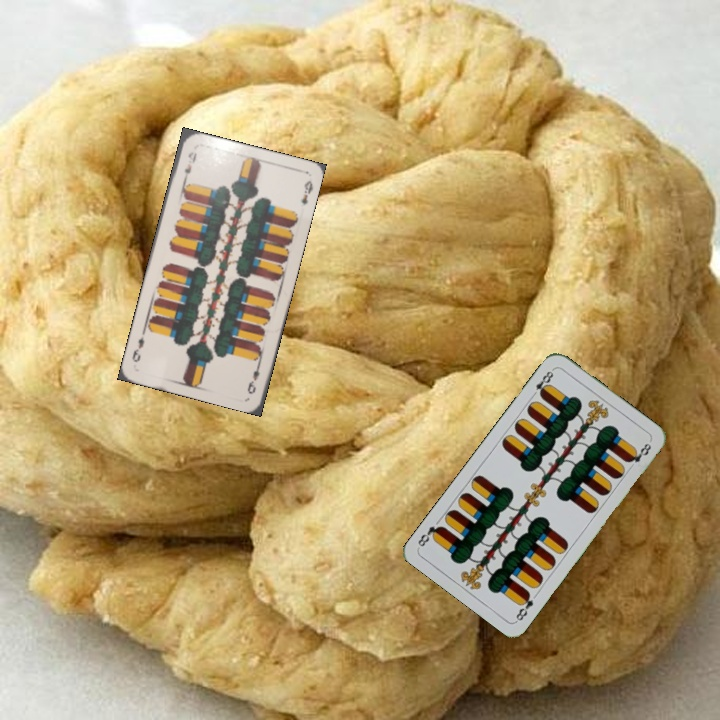E8: (528, 365, 557, 400), (512, 588, 536, 624)
E9: (243, 357, 263, 397), (179, 147, 199, 185)
